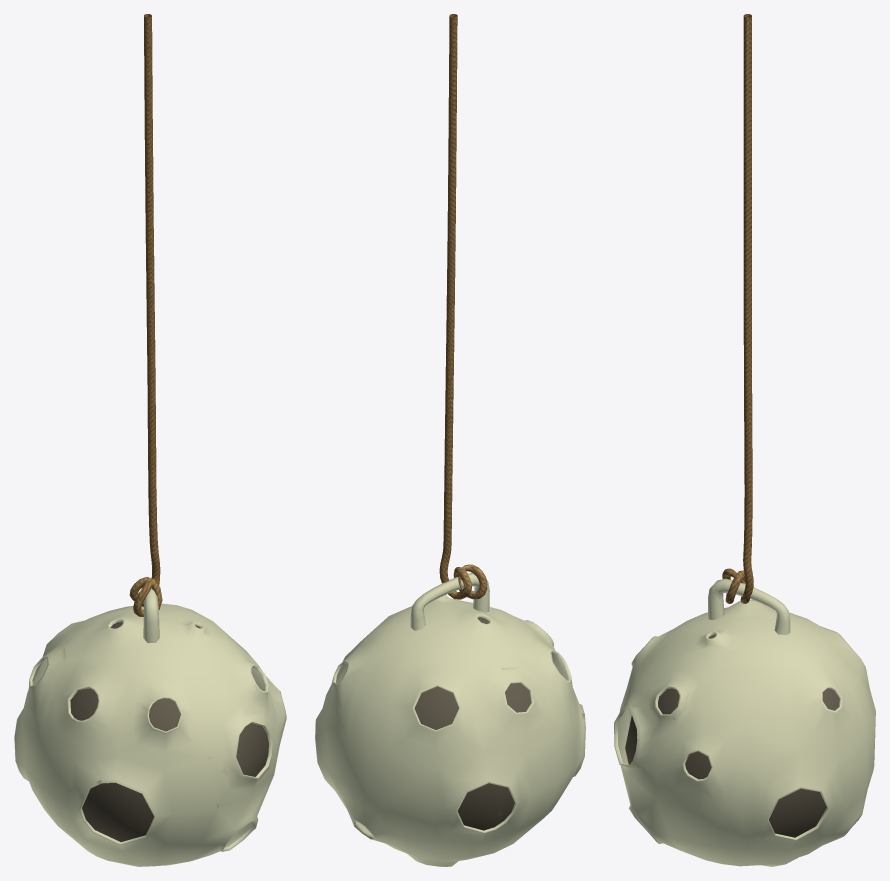
File: Moon_Model.glb
3 renders of one model, left to right at view 1: azimuth 30°, elevation 25°; view 2: azimuth 150°, elevation 25°; view 3: azimuth 270°, elevation 25°, orthographic.
Visible parts, largest first — view 1: Sphere.002; view 2: Sphere.002; view 3: Sphere.002.
Boxes of the visible parts, x1,y1,x2,y2 form: Sphere.002: (14,14,286,866); Sphere.002: (315,14,585,866); Sphere.002: (614,14,875,866).
Bounding box in the file's own units: 6.04 × 21.81 × 6.12.
Materials: 1 (1 with a texture image).
